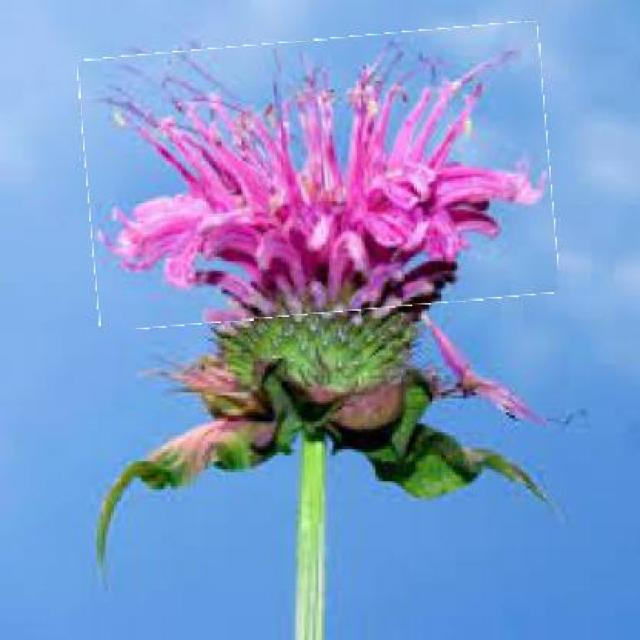Flower: (82, 30, 555, 322)
